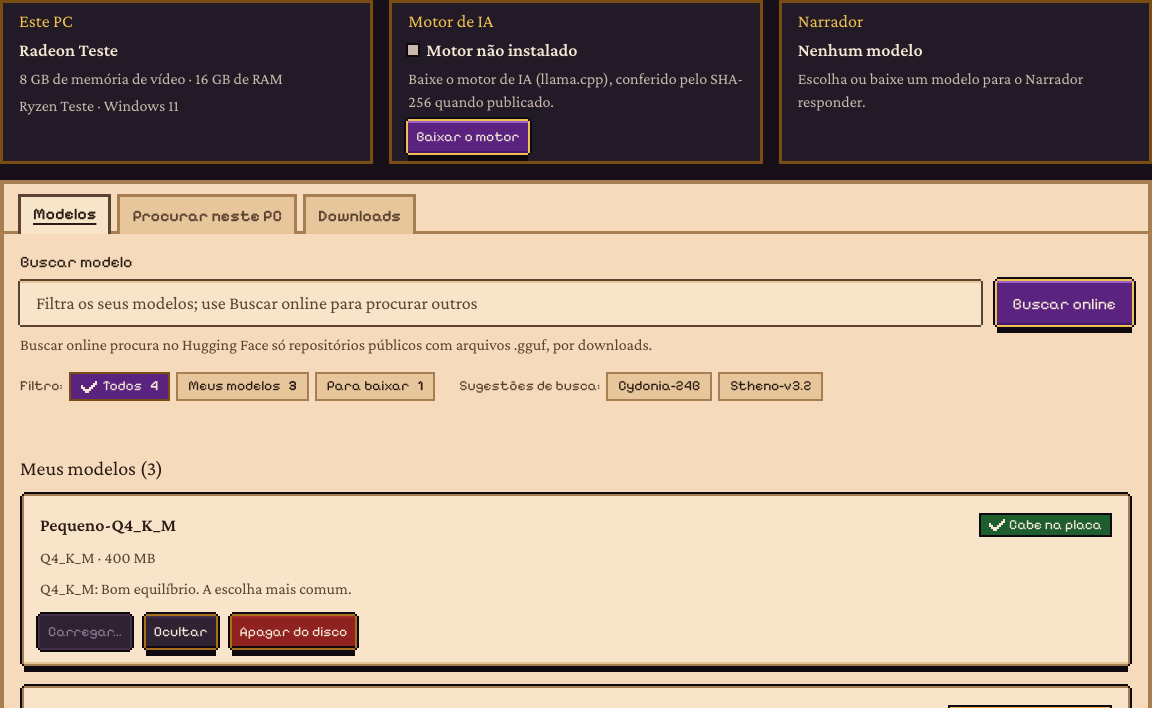
Test case: ModelsView — motor de IA › sem motor: Baixar o motor mostra o tamanho e baixa a variante escolhida após confirmar
The image size is (1152, 708).
Expected: the element "Motor de IA" shows "Motor não instalado", [426,40,578,60]
Click the button "Baixar o motor": (468,137) [408,121,528,153]
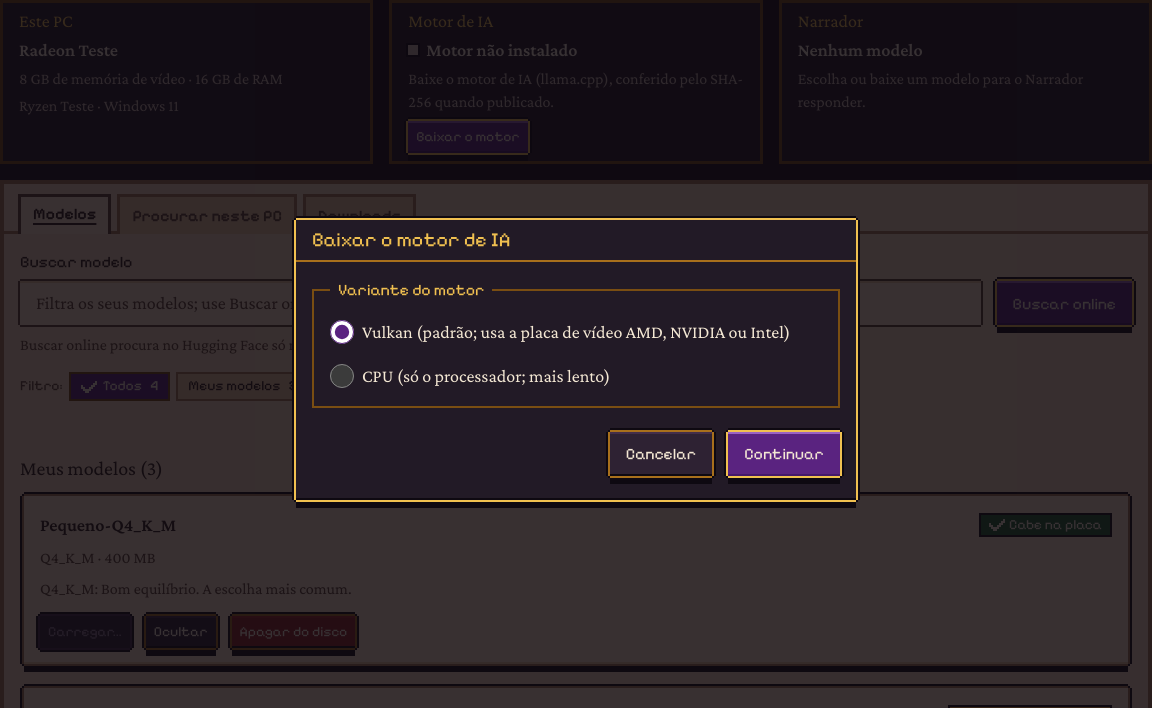
Result: the radio button labelled "Vulkan (padrão; usa a placa de vídeo AMD, NVIDIA ou Intel)" is checked at [330,320,354,344]
Click the radio button labelled "CPU (só o processador; mais lento)": (342,376) [330,364,354,388]
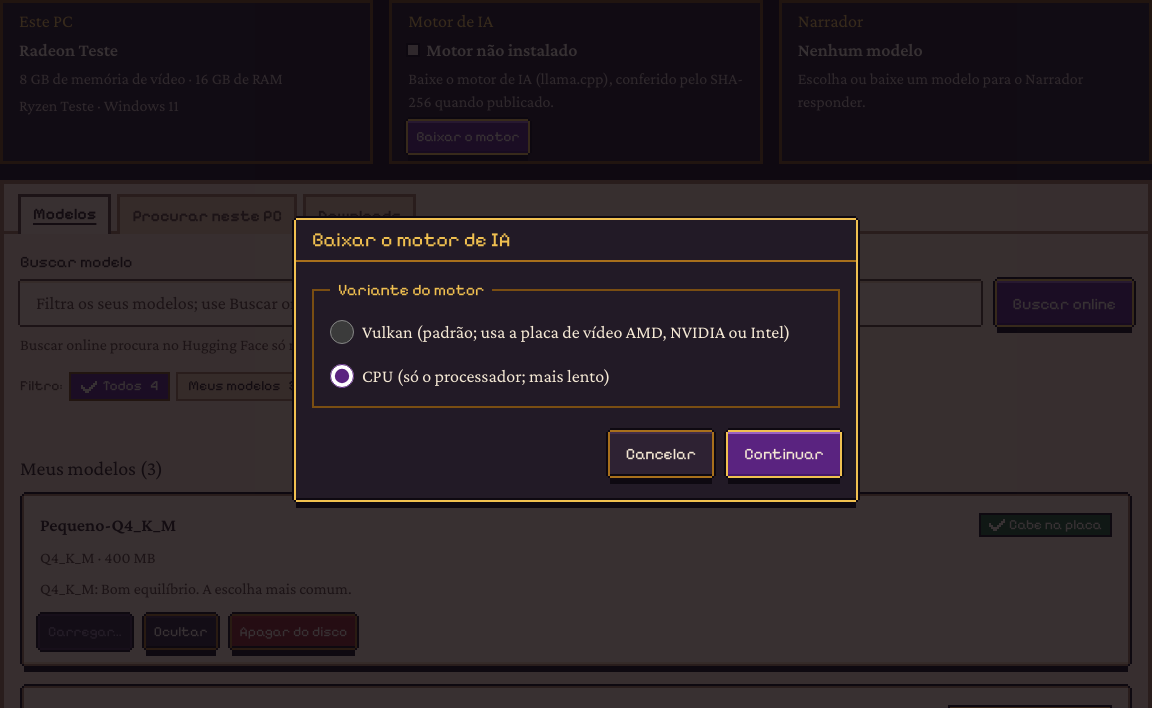
Click the button "Continuar": (784,454) [728,432,840,476]
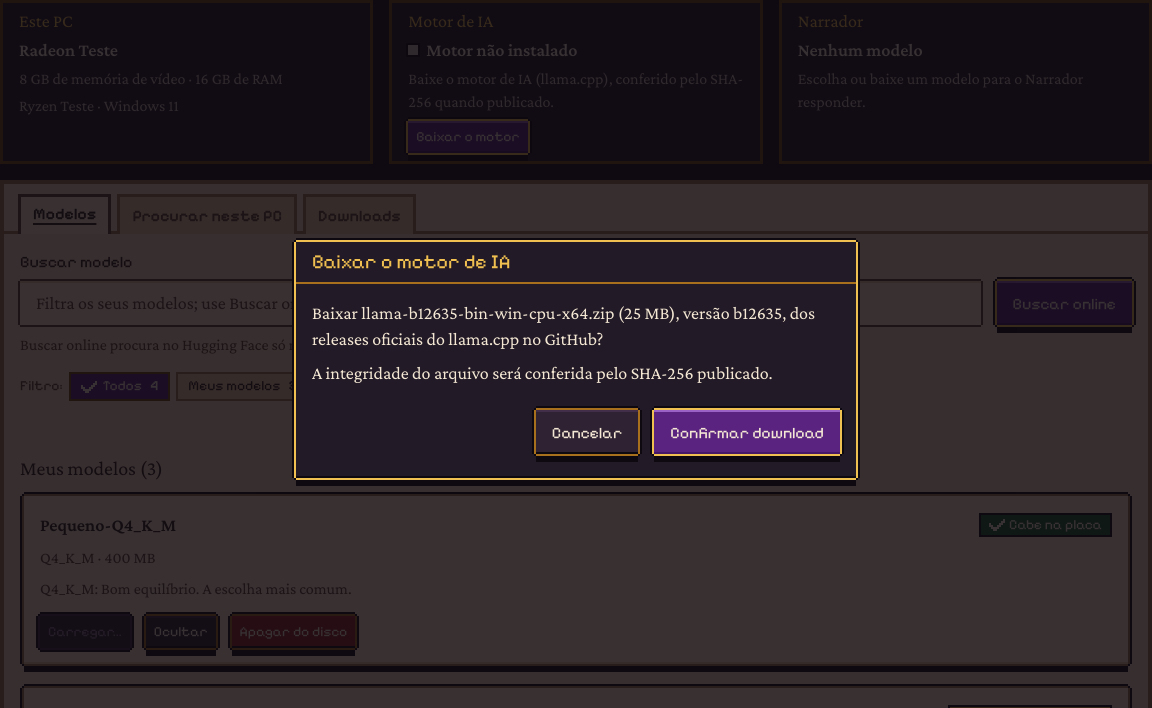
Result: the text "llama-b12635-bin-win-cpu-x64.zip (25 MB), versão b12635" is shown at [312,300,840,352]
Click the button "Confirmar download": (747,432) [654,410,840,454]
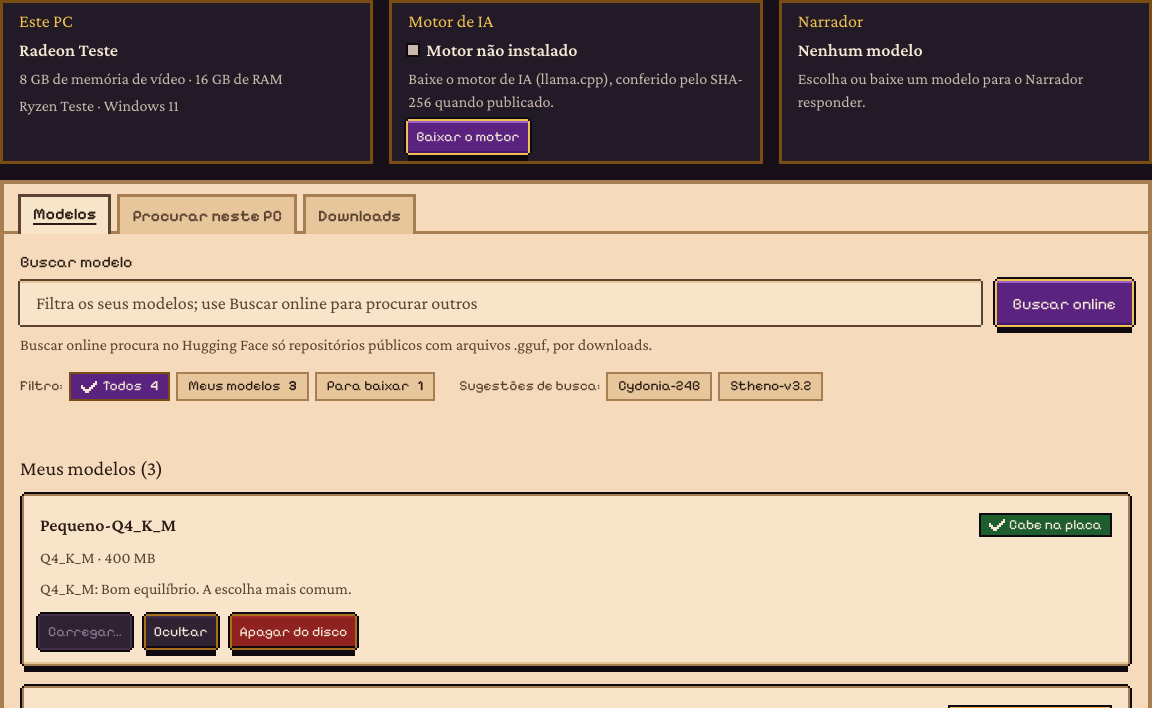
Result: the dialog is gone
